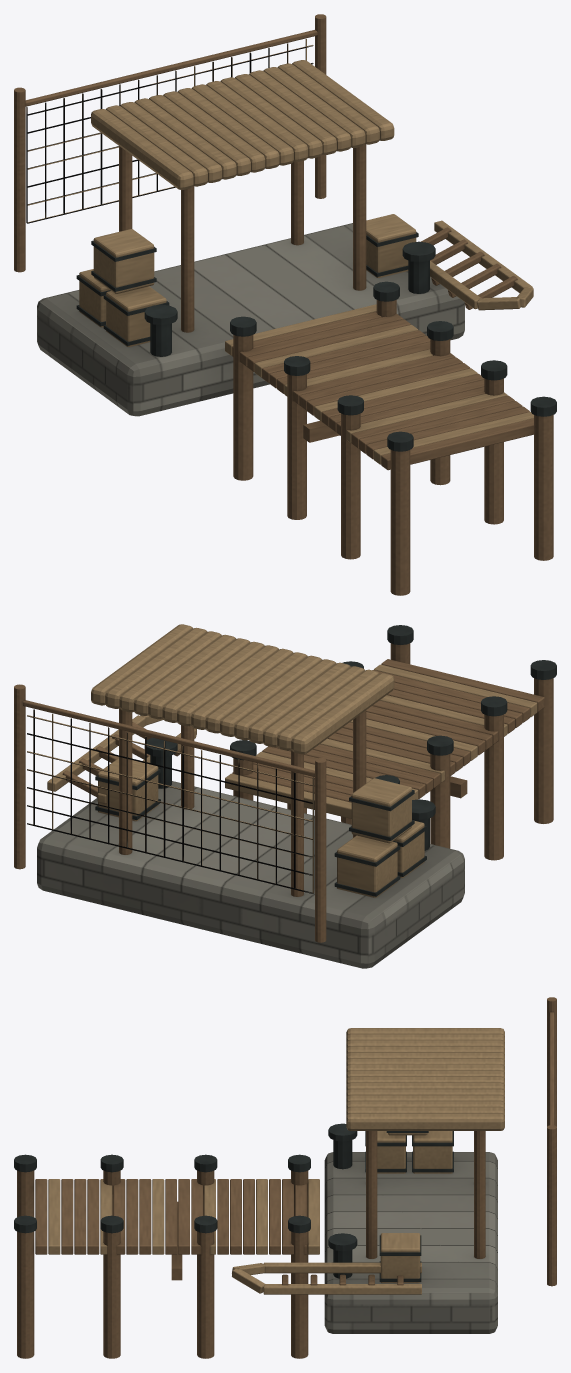
Rendered from port-fishery.glb.
3 views of the same model, one above another, from view 1: azimuth 30°, elevation 25°; view 2: azimuth 150°, elevation 25°; view 3: azimuth 270°, elevation 25° (orthographic). The views are drawn at different scales.
Visible parts, largest first — view 1: Port fishery; view 2: Port fishery; view 3: Port fishery.
Part boxes in pixels (x1,y1,x2,y2): Port fishery: (14,14,556,595); Port fishery: (14,624,556,968); Port fishery: (14,997,556,1358).
Bounding box in the file's own units: 5.11 × 4 × 7.53.
1 material, 1 textured.
